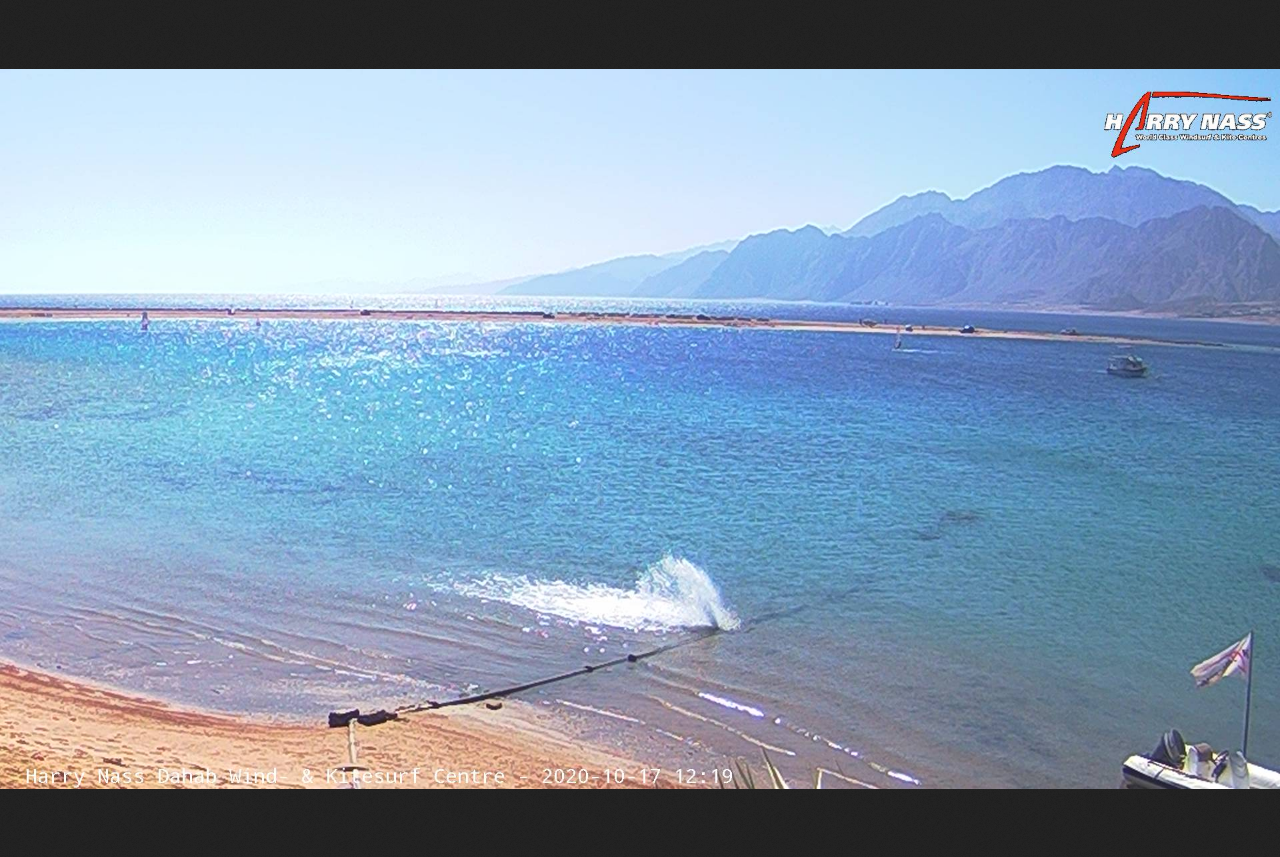yes: (1190, 633, 1248, 688)
